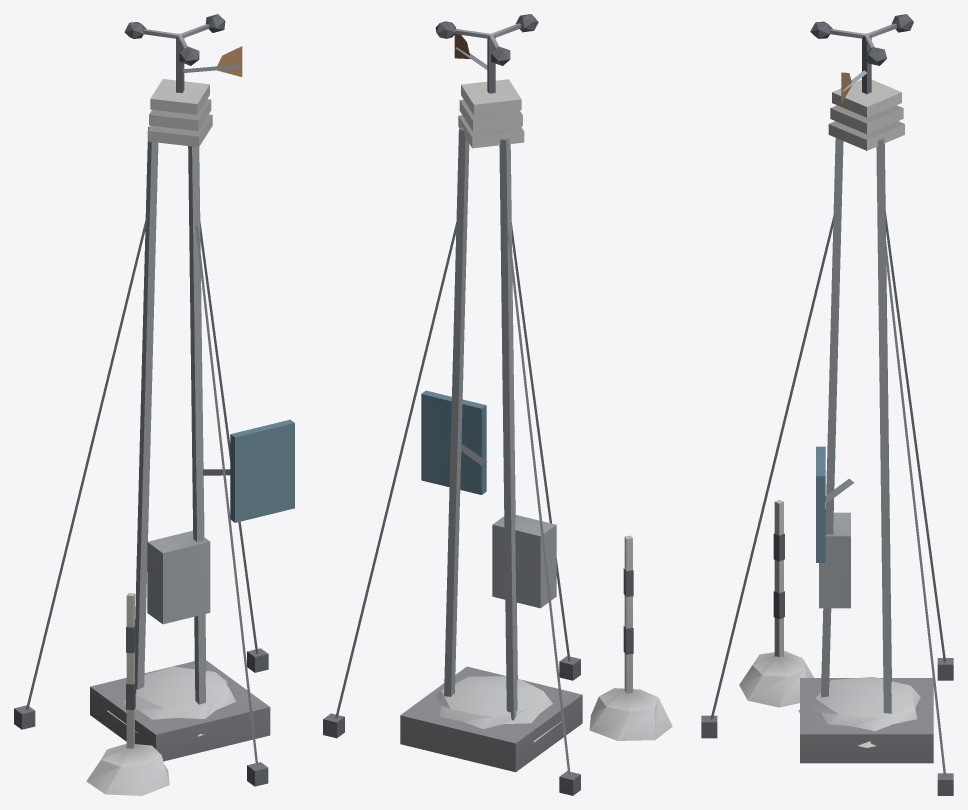
Rendered from mast.lod1.glb.
The picture shows the model from 3 angles, left to right: view 1: azimuth 30°, elevation 25°; view 2: azimuth 150°, elevation 25°; view 3: azimuth 270°, elevation 25°; orthographic projection.
Bounding box in the file's own units: 1.85 × 4.89 × 1.58.
